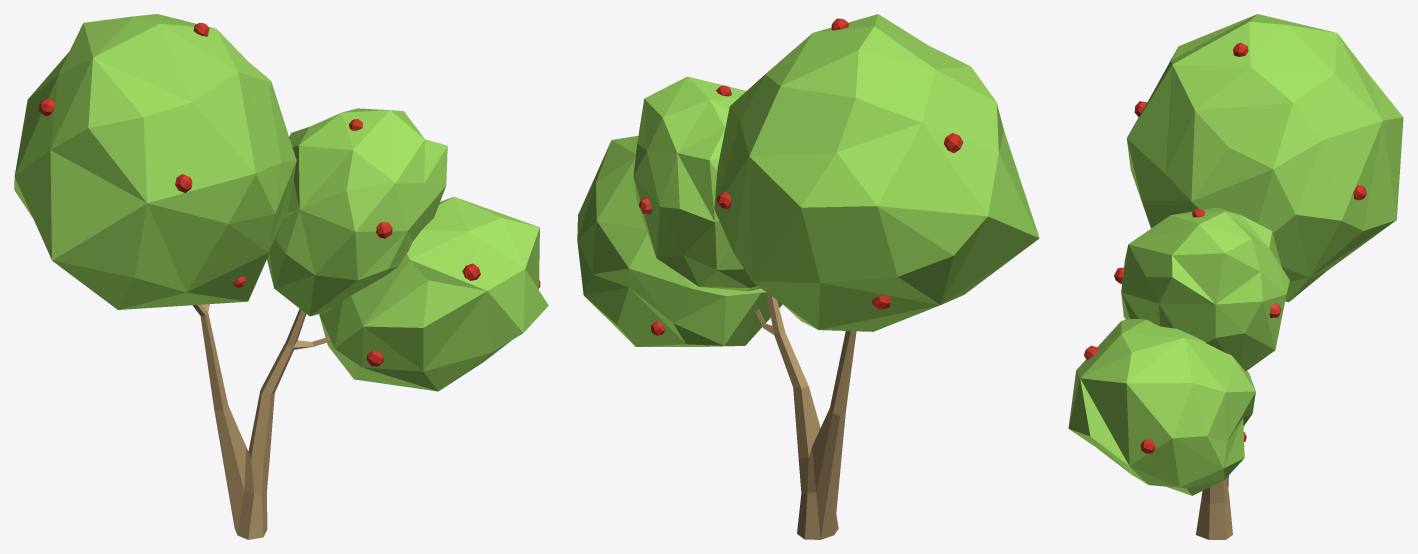
File: Apple_Tree_Apples_m_08.fbx
3 renders of one model, left to right at view 1: azimuth 30°, elevation 25°; view 2: azimuth 150°, elevation 25°; view 3: azimuth 270°, elevation 25°, orthographic. The views are drawn at different scales.
Parts seen in each view (by area): view 1: Apple_Tree_Apples_m_08; view 2: Apple_Tree_Apples_m_08; view 3: Apple_Tree_Apples_m_08.
Boxes of the visible parts, <box> form: Apple_Tree_Apples_m_08: <box>14,14,548,539</box>; Apple_Tree_Apples_m_08: <box>577,14,1039,539</box>; Apple_Tree_Apples_m_08: <box>1068,14,1403,539</box>.
Size of the model in its own units: 795 by 846 by 536.
